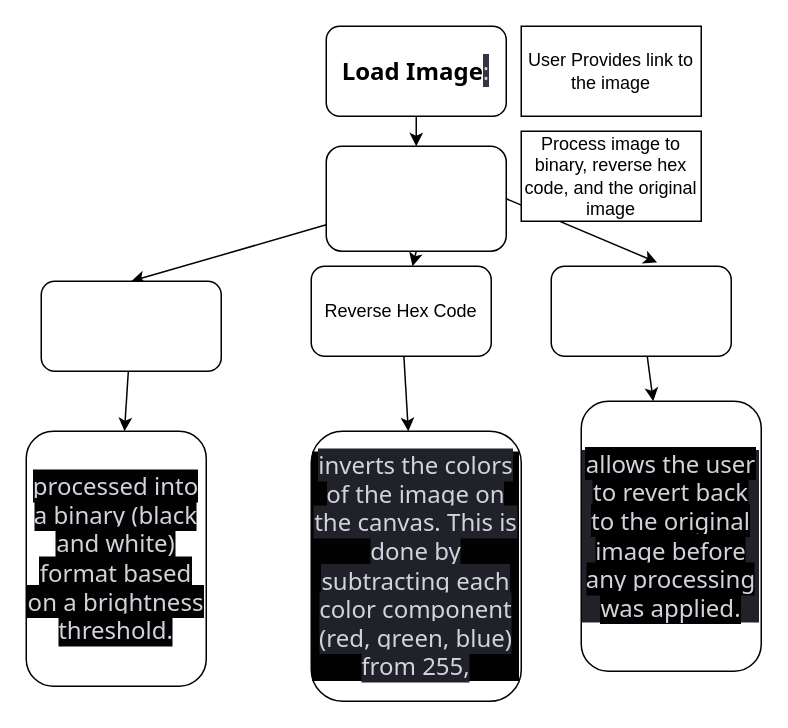
This 788x728 diagram has some shape labels left out. The centre of each missing label's shape, as x and y in pixels:
"Binary" goes at point (130, 325).
"Display processing options" goes at point (415, 198).
"Show original image" goes at point (640, 310).
